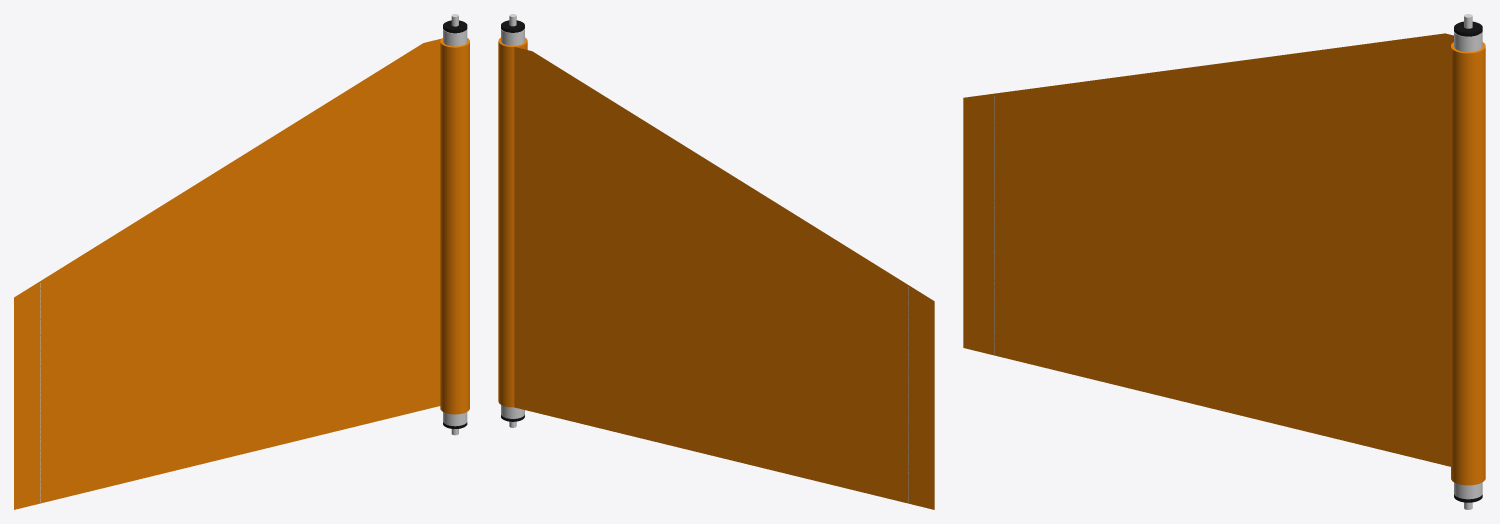
File: Giebelfenster (Trapez).glb
3 renders of one model, left to right at view 1: azimuth 30°, elevation 25°; view 2: azimuth 150°, elevation 25°; view 3: azimuth 330°, elevation 25°, orthographic. The views are drawn at different scales.
Parts seen in each view (by area): view 1: Stoff.001, Stoffende.001, Rolle.001; view 2: Stoff.001, Stoffende.001, Rolle.001; view 3: Stoff.001, Stoffende.001, Rolle.001.
Boxes of the visible parts, left/top/right/bottom form: Stoff.001: left=14, top=38, right=441, bottom=509; Stoffende.001: left=440, top=38, right=469, bottom=414; Rolle.001: left=443, top=20, right=467, bottom=428; Stoff.001: left=514, top=47, right=934, bottom=509; Stoffende.001: left=498, top=37, right=527, bottom=407; Rolle.001: left=501, top=20, right=524, bottom=421; Stoff.001: left=963, top=33, right=1453, bottom=466; Stoffende.001: left=1451, top=42, right=1485, bottom=485; Rolle.001: left=1454, top=21, right=1482, bottom=502.
Bounding box in the file's own units: 0.997 × 0.8897 × 0.0573.
4 materials, 1 textured.
